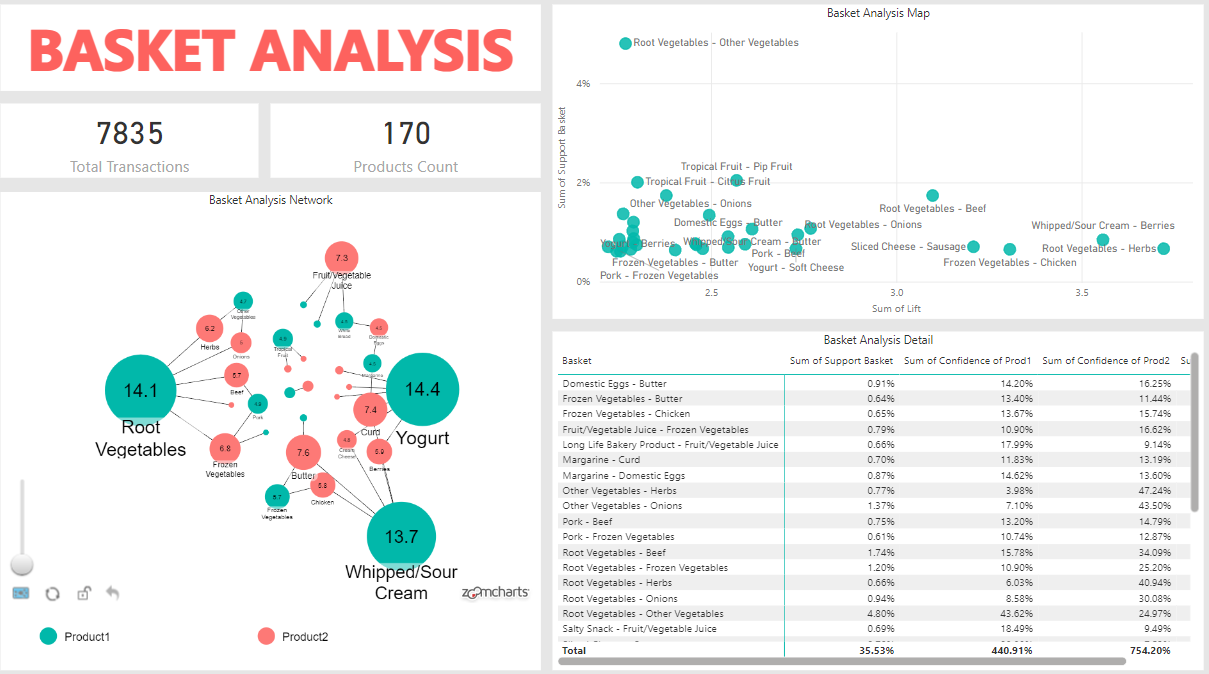

Layout of this report page (visuals, bound fields, positions):
{"tool":"powerbi","page":{"name":"Page 1","canvas":[1280,720],"ordinal":0},"visuals":[{"type":"ZoomChartsNetChartFreeD1C58E3B59077E6D06A4CB9B0D4E2029A917","title":"Basket Analysis Network","fields":{"Nodes":["Basket Analysis.Product1","Basket Analysis.Product2"],"Size":["Sum(Basket Analysis.Lift)"]},"box":[14.7,209.6,562.5,498.2],"z":1},{"type":"scatterChart","title":"Basket Analysis Map","fields":{"Category":["Basket Analysis.Basket"],"X":["Sum(Basket Analysis.Lift)"],"Y":["Sum(Basket Analysis.Support Basket)"]},"box":[588.2,14.7,678.3,327.2],"z":2},{"type":"pivotTable","title":"Basket Analysis Detail","fields":{"Rows":["Basket Analysis.Basket"],"Values":["Sum(Basket Analysis.Support Basket)","Sum(Basket Analysis.Confidence of Prod1)","Sum(Basket Analysis.Confidence of Prod2)","Sum(Basket Analysis.Lift)"]},"box":[588.2,354.8,678.3,352.9],"z":3},{"type":"textbox","box":[14.7,14.7,562.5,90.1],"z":4},{"type":"card","fields":{"Values":["Groceries.Total Transactions"]},"box":[14.7,117.6,268.4,77.2],"z":5},{"type":"card","fields":{"Values":["Groceries.Products Count"]},"box":[296,117.6,281.2,77.2],"z":6}]}

Visuals, with their boxes in screenshot pixels (x1, y1, x2, y2), scaled from the page's 1280x720 canvas onto the 1209x674 screenshot:
"Basket Analysis Network" ZoomChartsNetChartFreeD1C58E3B59077E6D06A4CB9B0D4E2029A917: l=14, t=196, r=545, b=663
"Basket Analysis Map" scatterChart: l=556, t=14, r=1196, b=320
"Basket Analysis Detail" pivotTable: l=556, t=332, r=1196, b=662
textbox: l=14, t=14, r=545, b=98
card - Groceries.Total Transactions: l=14, t=110, r=267, b=182
card - Groceries.Products Count: l=280, t=110, r=545, b=182
